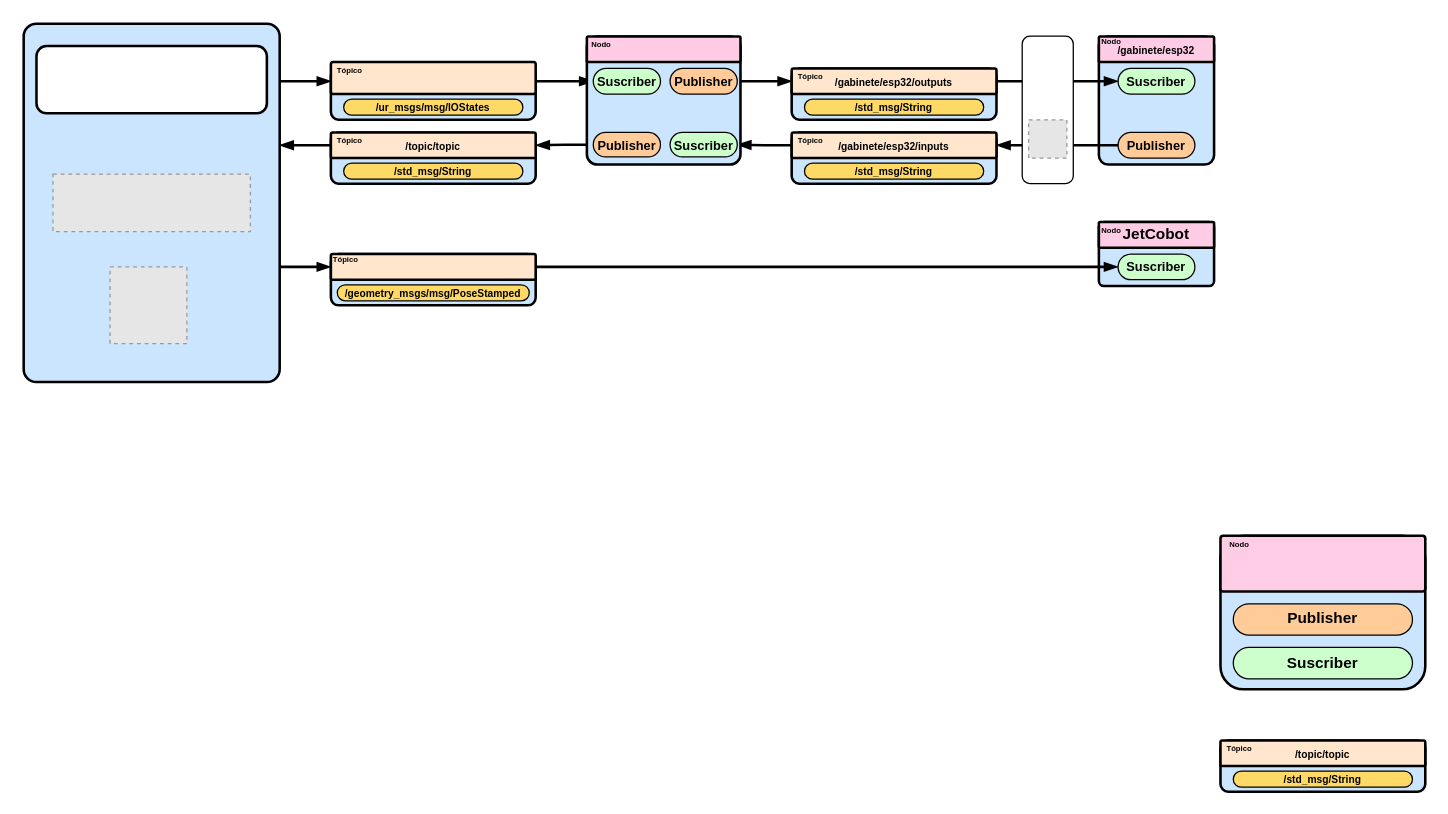
Image size: 1448x814. Some labels were removed from this diagram. Grey dashed boxes stand in for pictures. The box of each missing label's shape, as (x1, y1, x2, y2) in pixels:
/io_and_status_controller/io_states: (329, 60, 536, 95)
/tcp_pose_broadcaster/pose: (329, 252, 536, 280)
Agent: (1021, 35, 1073, 184)
Driver: (35, 44, 268, 114)
NODO [NAME]: (1219, 534, 1426, 592)
Traductor: (585, 35, 741, 63)
